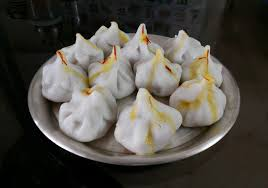modak: (110, 86, 184, 155), (51, 87, 122, 145), (174, 69, 230, 127), (34, 46, 89, 102), (85, 53, 139, 100), (132, 47, 182, 96), (165, 26, 205, 66)
